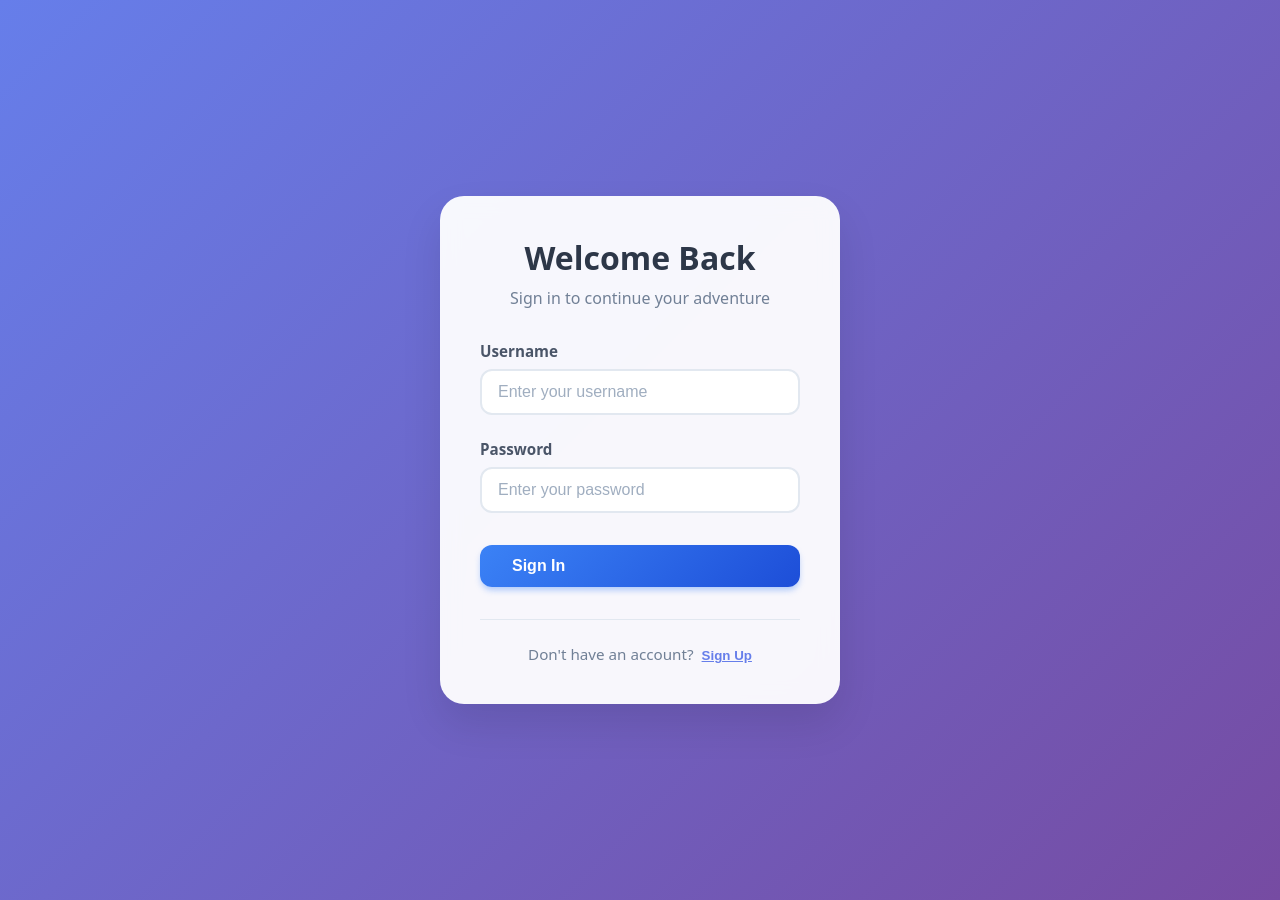
Test case: LoginPage Frontend Tests › Component Rendering › should render signup form when toggled
Click the button "Sign Up". click: (727, 656)
box: [702,648,752,663]
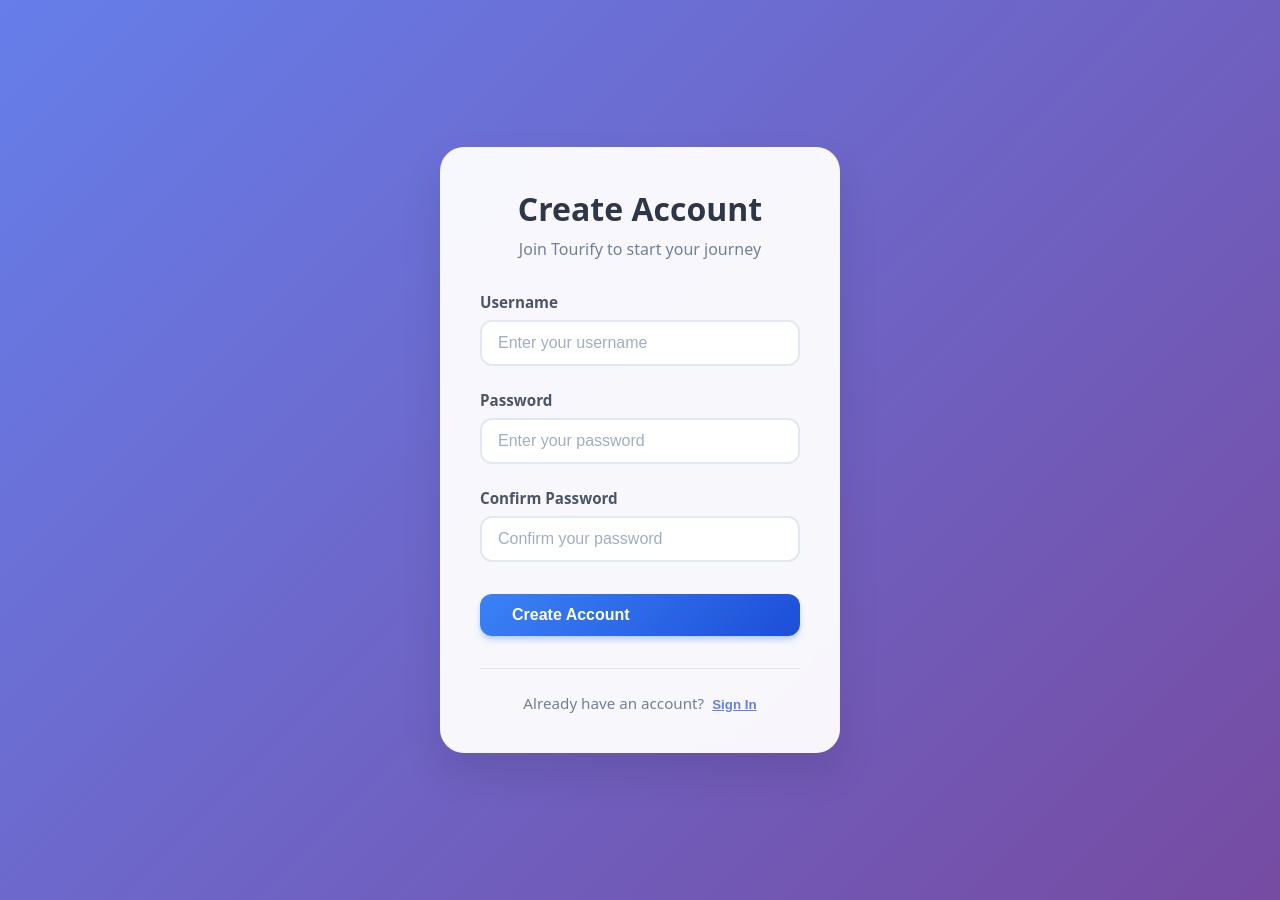
Result: the heading "Create Account" is shown at [518,187,762,230]
Result: the text "Join Tourify to start your journey" is shown at [519,238,761,260]
Result: the password field labelled "Confirm Password" is shown at [480,516,800,562]
